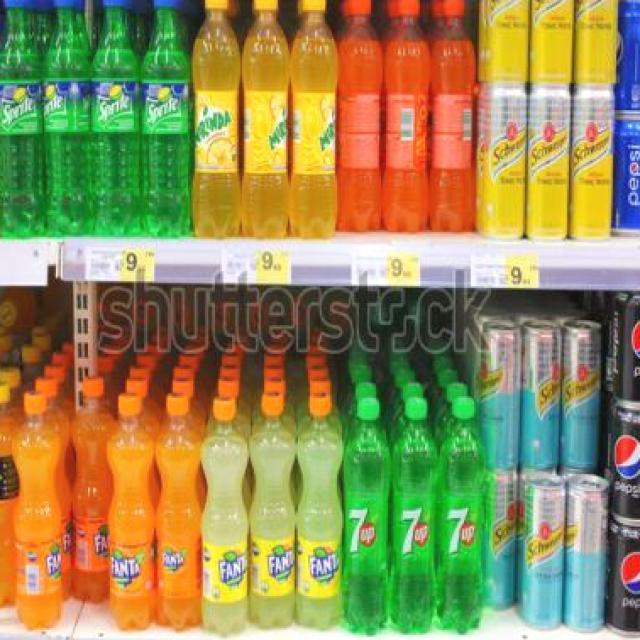Drinks: (106, 392, 156, 634), (11, 391, 60, 633), (42, 0, 92, 237), (200, 394, 248, 636), (344, 395, 392, 636), (248, 391, 296, 632), (296, 391, 344, 632), (141, 0, 190, 235), (92, 0, 141, 235), (439, 396, 487, 635), (390, 398, 438, 635), (157, 391, 200, 633), (0, 0, 43, 237), (606, 520, 640, 638), (611, 412, 640, 526), (616, 291, 640, 410)
